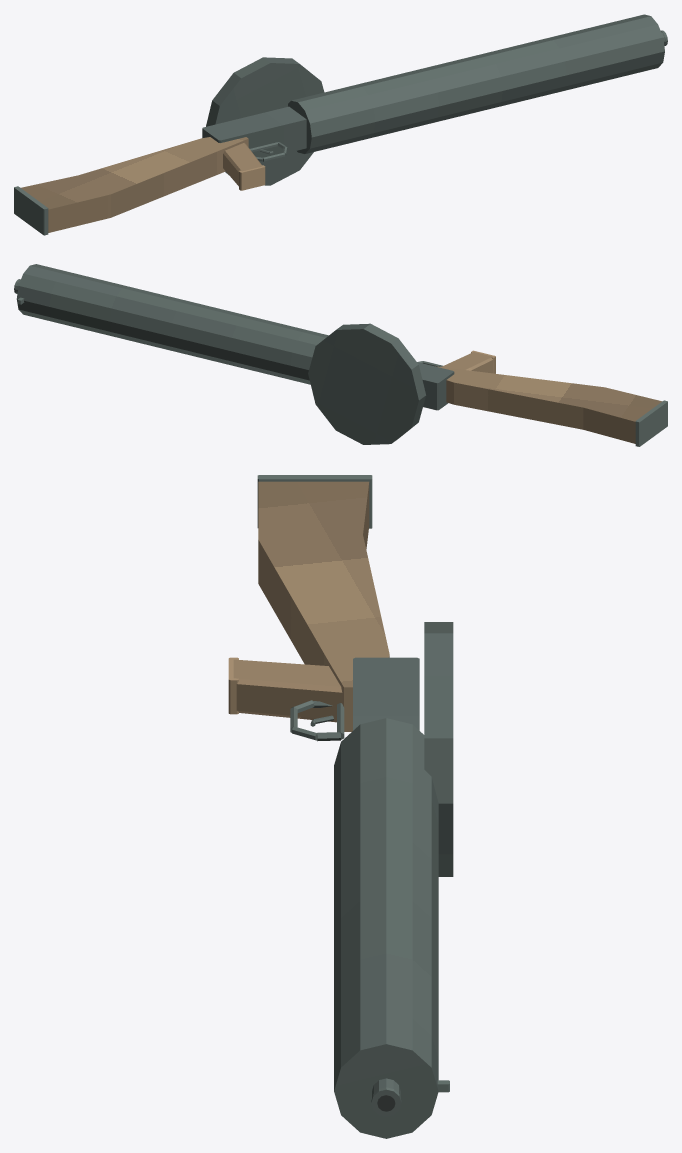
The model's file is weapon-lewis.glb.
3 views of the same model, one above another, from view 1: azimuth 30°, elevation 25°; view 2: azimuth 150°, elevation 25°; view 3: azimuth 270°, elevation 25° (orthographic). The views are drawn at different scales.
Parts seen in each view (by area): view 1: weapon-lewis/broad-round-barrel-shroud, weapon-lewis/shaped-solid-butt, weapon-lewis/top-pan-magazine, weapon-lewis/full-depth-receiver, weapon-lewis/butt-end-plate, weapon-lewis/distinct-eight-sided-pistol-grip, weapon-lewis/distinct-eight-sided-pistol-grip-heel; view 2: weapon-lewis/broad-round-barrel-shroud, weapon-lewis/top-pan-magazine, weapon-lewis/shaped-solid-butt, weapon-lewis/full-depth-receiver, weapon-lewis/butt-end-plate, weapon-lewis/distinct-eight-sided-pistol-grip; view 3: weapon-lewis/broad-round-barrel-shroud, weapon-lewis/shaped-solid-butt, weapon-lewis/top-pan-magazine, weapon-lewis/distinct-eight-sided-pistol-grip, weapon-lewis/full-depth-receiver, weapon-lewis/butt-end-plate.
Boxes of the visible parts, x1,y1,x2,y2 form: weapon-lewis/broad-round-barrel-shroud: [288, 14, 664, 153]; weapon-lewis/shaped-solid-butt: [21, 137, 248, 232]; weapon-lewis/top-pan-magazine: [206, 57, 324, 185]; weapon-lewis/full-depth-receiver: [202, 106, 306, 157]; weapon-lewis/butt-end-plate: [14, 186, 48, 235]; weapon-lewis/distinct-eight-sided-pistol-grip: [223, 143, 261, 186]; weapon-lewis/distinct-eight-sided-pistol-grip-heel: [239, 165, 265, 190]; weapon-lewis/broad-round-barrel-shroud: [16, 264, 328, 384]; weapon-lewis/top-pan-magazine: [308, 323, 426, 444]; weapon-lewis/shaped-solid-butt: [435, 366, 661, 443]; weapon-lewis/full-depth-receiver: [417, 362, 454, 410]; weapon-lewis/butt-end-plate: [635, 400, 667, 446]; weapon-lewis/distinct-eight-sided-pistol-grip: [442, 352, 493, 373]; weapon-lewis/broad-round-barrel-shroud: [334, 718, 438, 1138]; weapon-lewis/shaped-solid-butt: [258, 481, 389, 731]; weapon-lewis/top-pan-magazine: [424, 622, 453, 876]; weapon-lewis/distinct-eight-sided-pistol-grip: [233, 659, 342, 722]; weapon-lewis/full-depth-receiver: [353, 657, 419, 730]; weapon-lewis/butt-end-plate: [257, 475, 372, 528].
Size of the model in its own units: 1.28 by 0.23 by 0.2015.
Materials: 3 (3 with a texture image).
